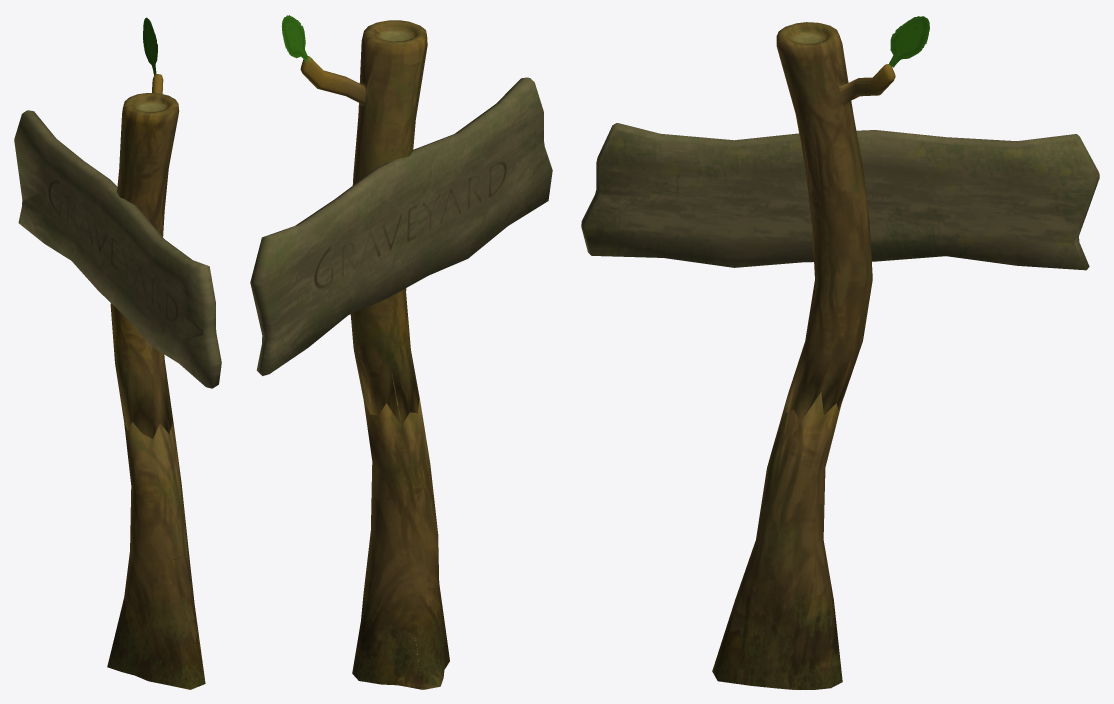
The model's file is SignPost.fbx.
The picture shows the model from 3 angles, left to right: view 1: azimuth 30°, elevation 25°; view 2: azimuth 150°, elevation 25°; view 3: azimuth 270°, elevation 25°; orthographic projection. The views are drawn at different scales.
Visible parts, largest first — view 1: SignUpper_low, Post_low, Post_low.001, Leaf_low; view 2: SignUpper_low, Post_low, Post_low.001, Leaf_low; view 3: SignUpper_low, Post_low.001, Post_low, Leaf_low.
Part boxes in pixels (x1=…): SignUpper_low: x1=14, y1=110, x2=221, y2=388; Post_low: x1=107, y1=422, x2=205, y2=689; Post_low.001: x1=110, y1=74, x2=179, y2=438; Leaf_low: x1=143, y1=17, x2=157, y2=75; SignUpper_low: x1=250, y1=77, x2=552, y2=376; Post_low: x1=352, y1=398, x2=449, y2=689; Post_low.001: x1=300, y1=20, x2=427, y2=425; Leaf_low: x1=281, y1=15, x2=307, y2=62; SignUpper_low: x1=581, y1=123, x2=1099, y2=270; Post_low.001: x1=776, y1=22, x2=895, y2=422; Post_low: x1=712, y1=392, x2=842, y2=689; Leaf_low: x1=889, y1=16, x2=929, y2=67.
Bounding box in the file's own units: 16.51 × 107 × 73.27.
